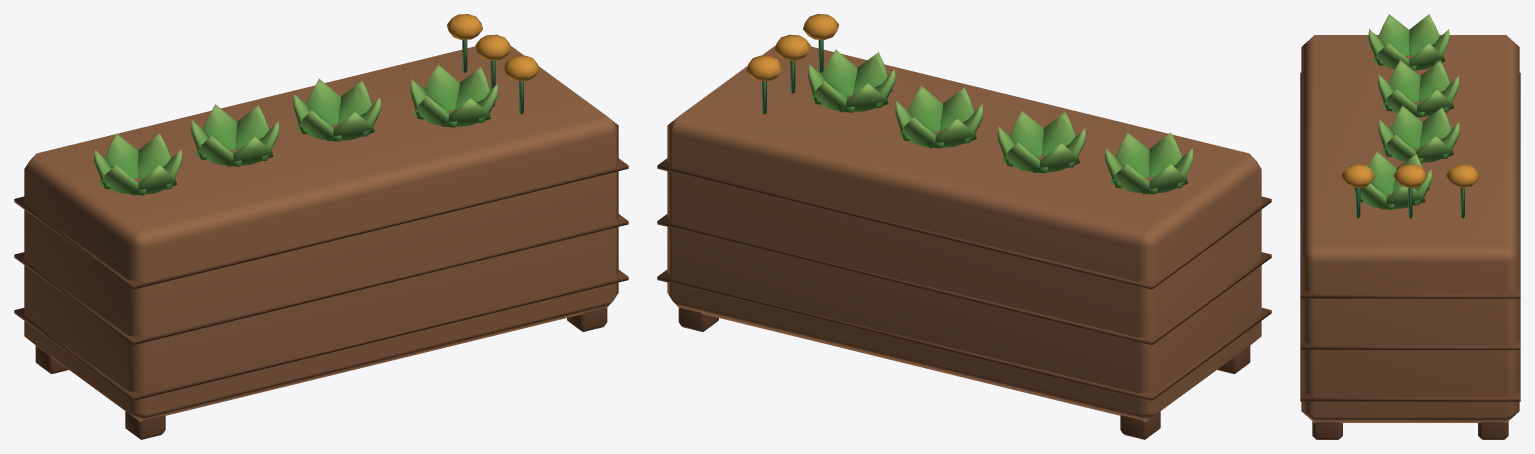
Rendered from planter_box.glb.
The picture shows the model from 3 angles, left to right: view 1: azimuth 30°, elevation 25°; view 2: azimuth 150°, elevation 25°; view 3: azimuth 270°, elevation 25°; orthographic projection. The views are drawn at different scales.
Parts seen in each view (by area): view 1: planter_box; view 2: planter_box; view 3: planter_box.
Part boxes in pixels (left/top/right/bottom): planter_box: left=14, top=14, right=628, bottom=439; planter_box: left=657, top=14, right=1271, bottom=439; planter_box: left=1300, top=14, right=1520, bottom=439.
Size of the model in its own units: 1.21 by 0.625 by 0.505.
